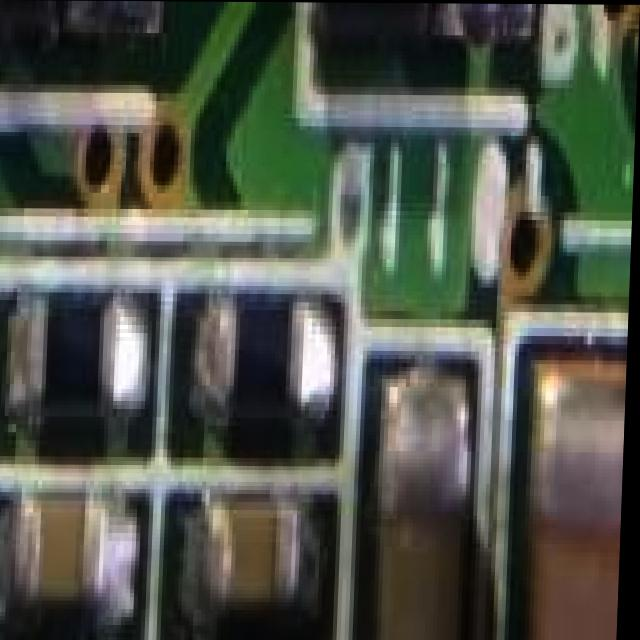capacitor: (501, 339, 630, 640), (377, 358, 482, 640), (5, 496, 146, 637), (186, 497, 318, 616)
resistor: (0, 260, 148, 433), (206, 277, 328, 420)
transistor: (299, 2, 500, 35)
